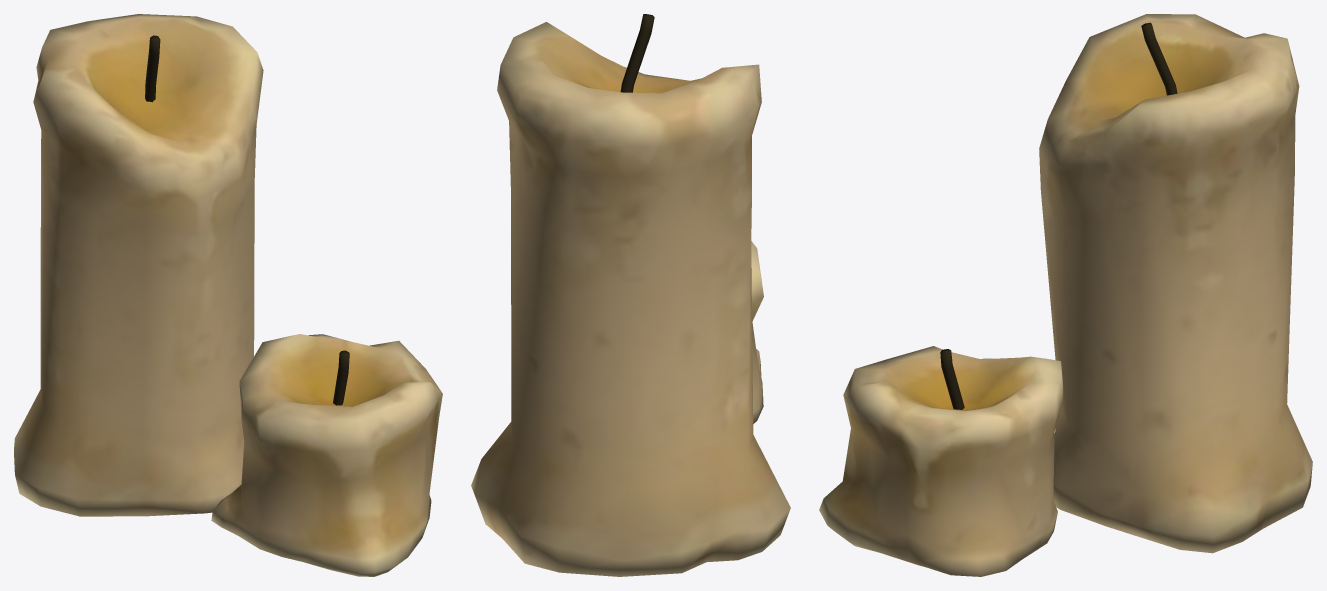
The model's file is candlegroup2.glb.
3 renders of one model, left to right at view 1: azimuth 30°, elevation 25°; view 2: azimuth 150°, elevation 25°; view 3: azimuth 270°, elevation 25°, orthographic. The views are drawn at different scales.
Visible parts, largest first — view 1: candleGroup2; view 2: candleGroup2; view 3: candleGroup2.
Boxes of the visible parts, x1,y1,x2,y2 form: candleGroup2: (14, 14, 442, 576); candleGroup2: (471, 14, 790, 576); candleGroup2: (819, 14, 1312, 576).
Size of the model in its own units: 0.1912 by 0.2677 by 0.2539.
1 material, 1 textured.
